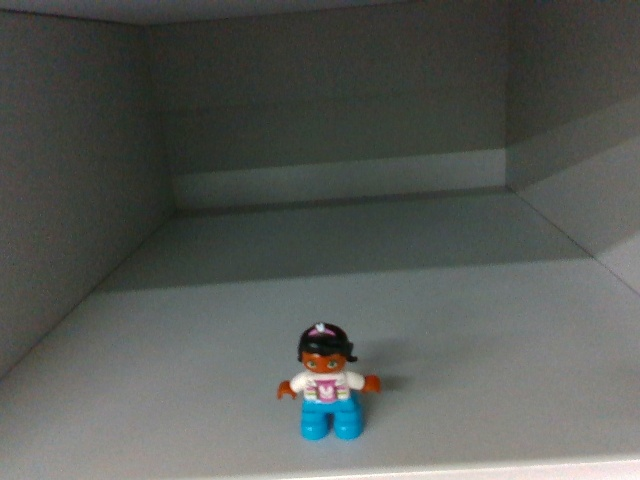people: (275, 324, 383, 444)
